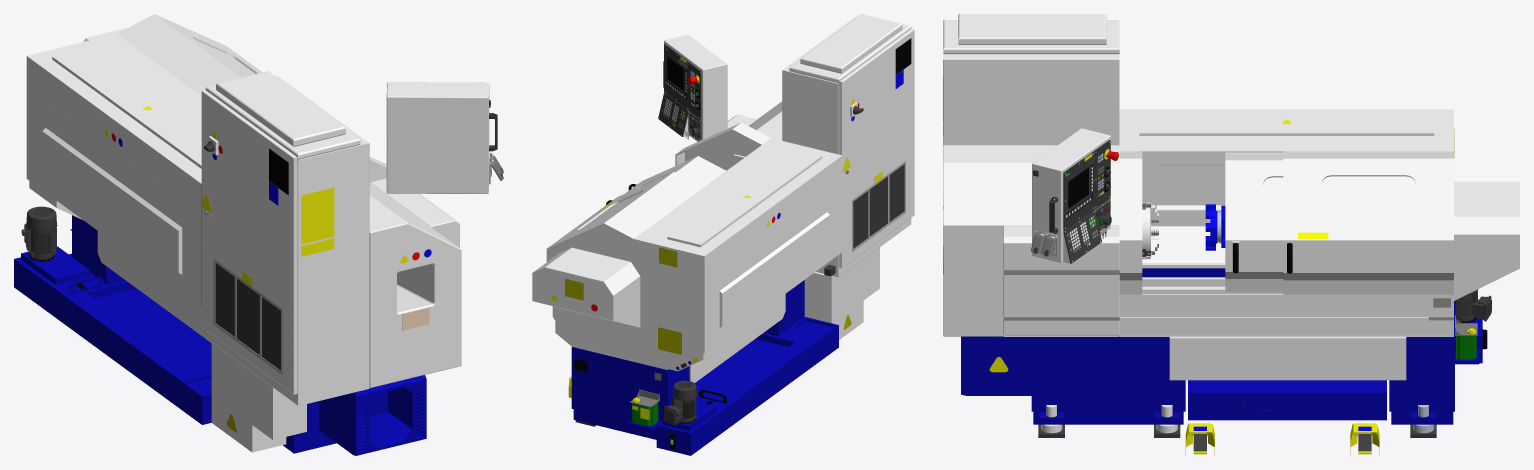
The model's file is torno.glb.
The picture shows the model from 3 angles, left to right: view 1: azimuth 30°, elevation 25°; view 2: azimuth 150°, elevation 25°; view 3: azimuth 270°, elevation 25°; orthographic projection. The views are drawn at different scales.
Visible parts, largest first — view 1: Torno_cnc; view 2: Torno_cnc; view 3: Torno_cnc.
Boxes of the visible parts, <box> form: Torno_cnc: <box>14,14,503,455</box>; Torno_cnc: <box>532,14,914,455</box>; Torno_cnc: <box>943,14,1519,455</box>.
Size of the model in its own units: 1.62 by 2.04 by 3.07.
